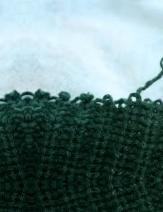snag: (128, 51, 162, 106)
